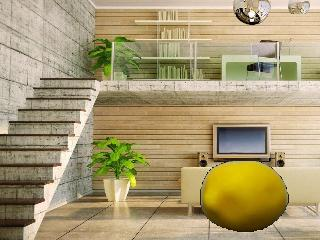lemon: (201, 160, 289, 232)
